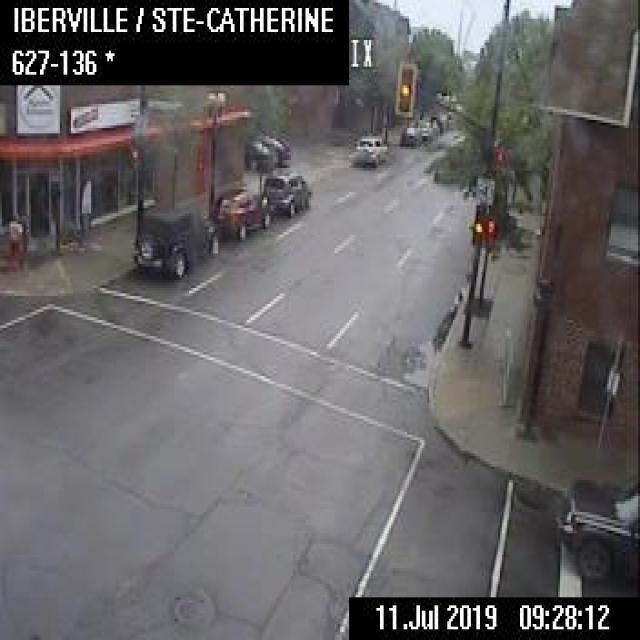pedestrian: (5, 213, 22, 267)
vehicle: (558, 480, 638, 581), (128, 202, 218, 278), (211, 186, 275, 238), (262, 170, 310, 214), (251, 128, 289, 164), (349, 134, 386, 167), (243, 138, 277, 169), (414, 117, 438, 139), (398, 125, 420, 144), (428, 109, 446, 131)
